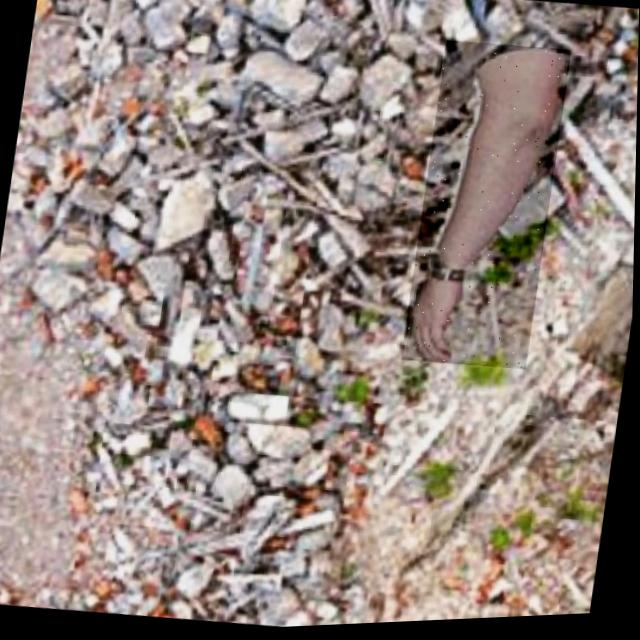Person in Rubble: (402, 40, 571, 378)
